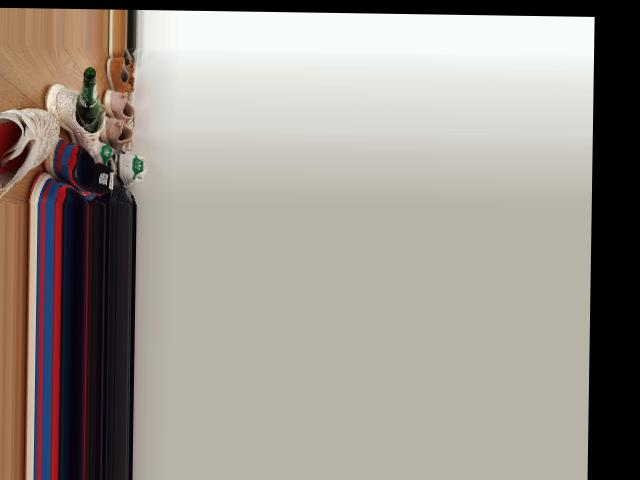beer: (75, 66, 100, 132)
